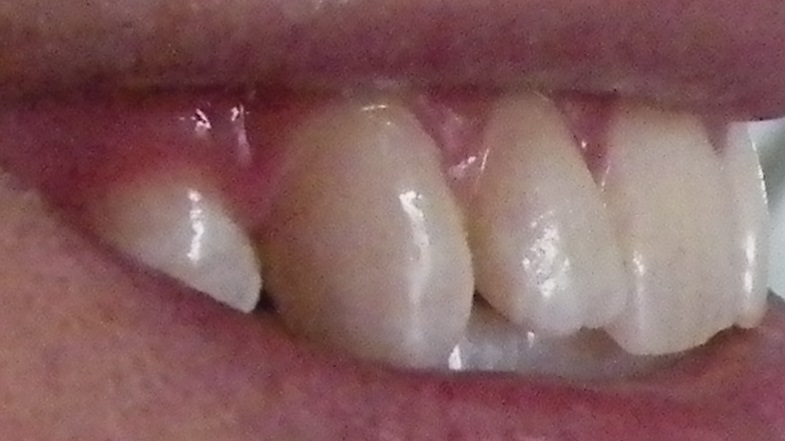boca: (73, 92, 771, 367)
